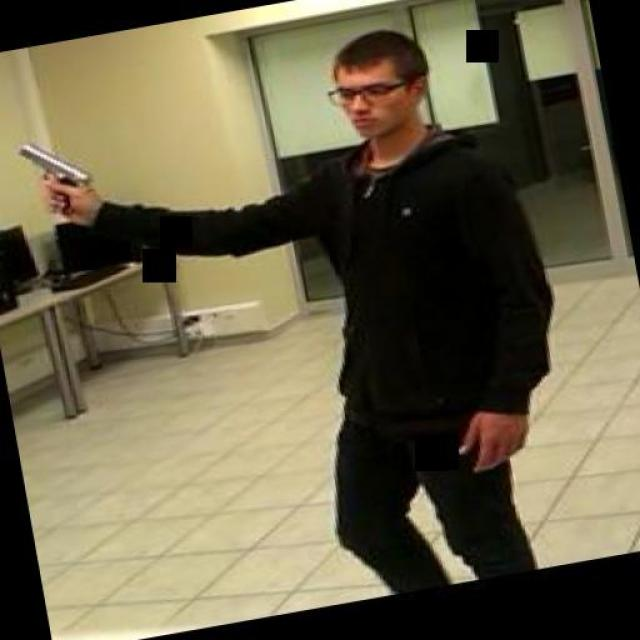gun: (7, 128, 105, 222)
